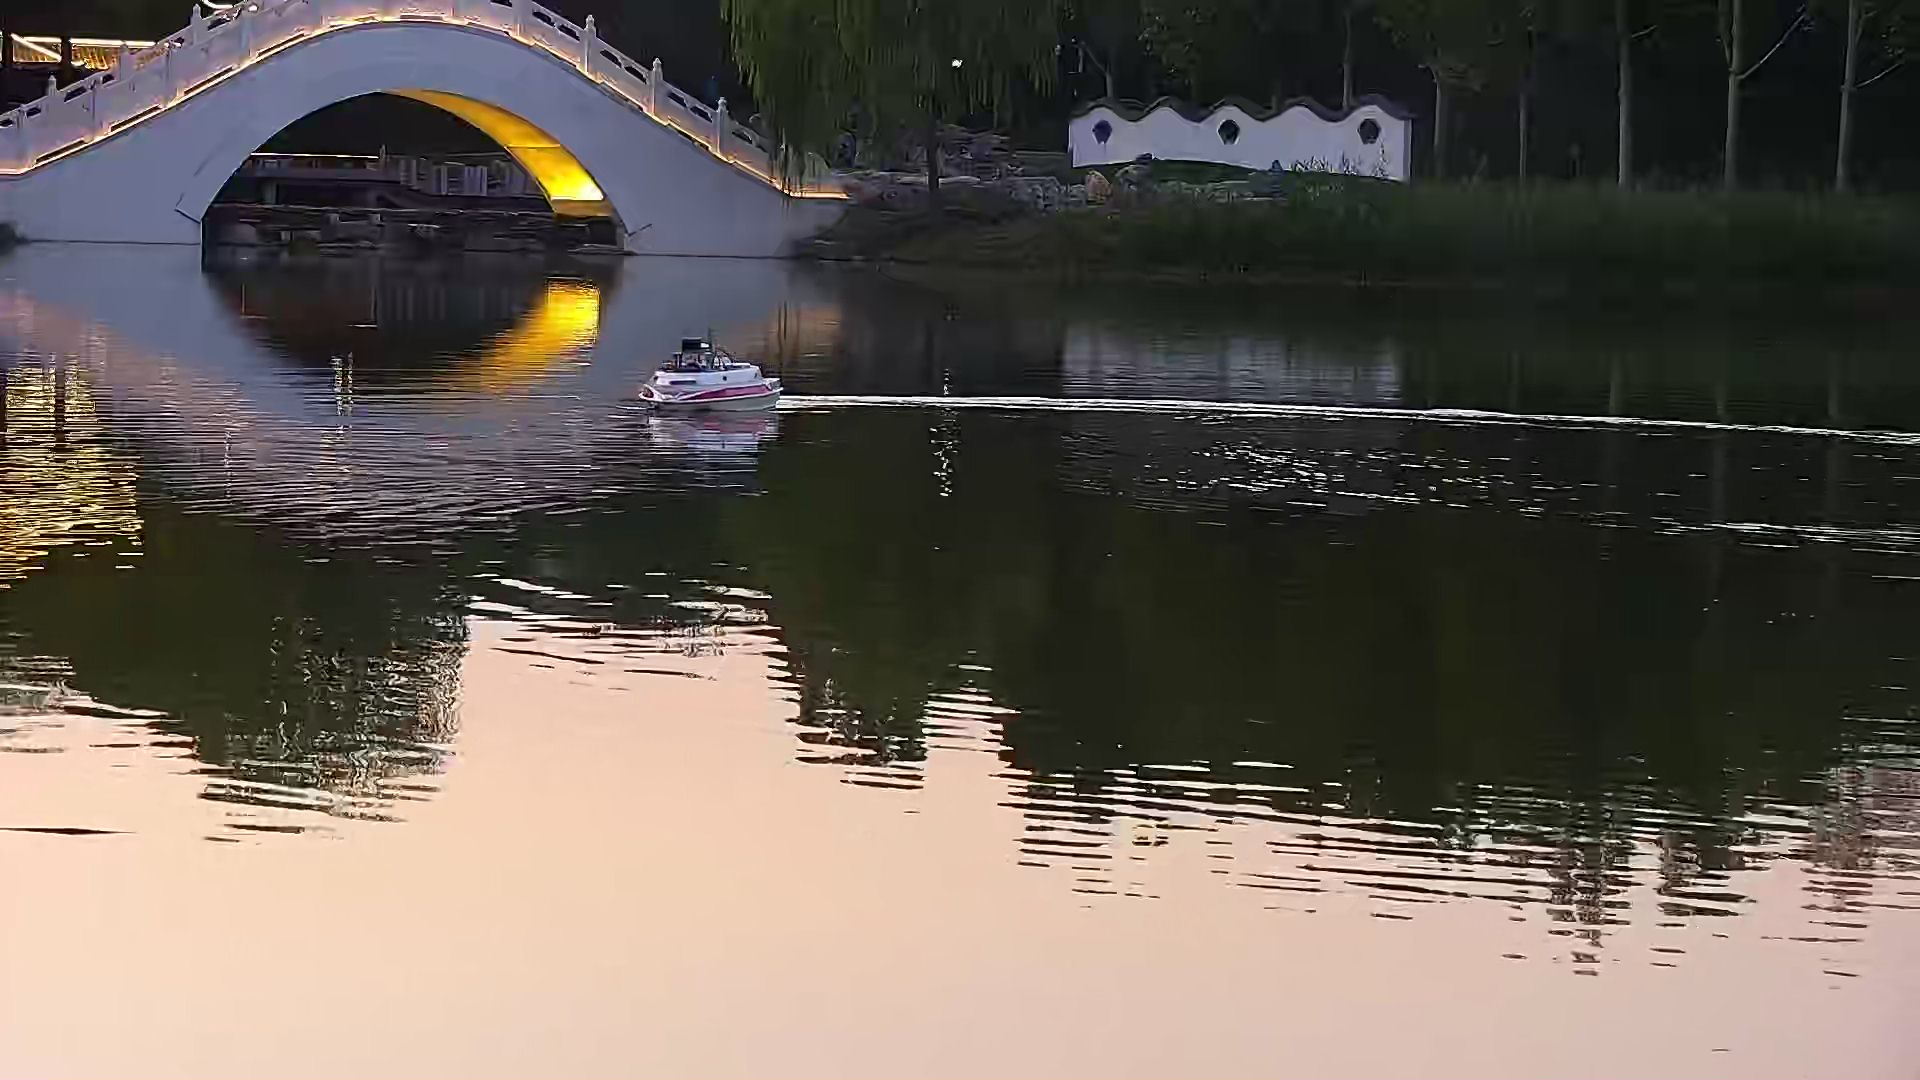boat: (632, 328, 790, 426)
bridge: (3, 1, 814, 255)
